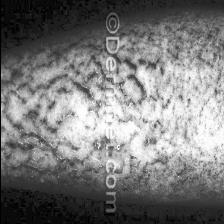Non-Cancerous Skin Condition: (128, 26, 224, 168), (0, 47, 91, 169)
